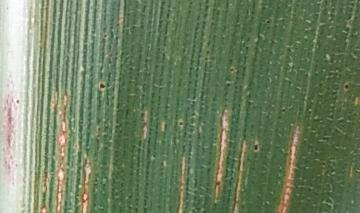tarspot: (95, 80, 108, 93), (250, 141, 262, 154), (177, 119, 185, 130), (343, 82, 349, 92)
